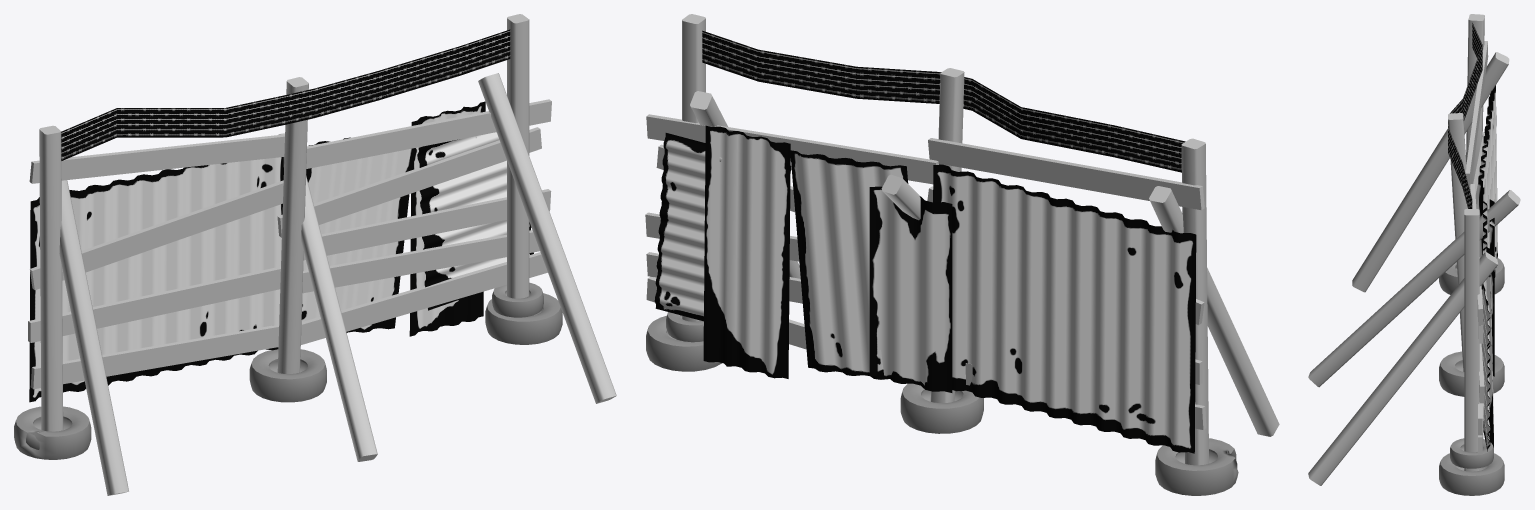
The model's file is JunkWall2.FBX.
3 renders of one model, left to right at view 1: azimuth 30°, elevation 25°; view 2: azimuth 150°, elevation 25°; view 3: azimuth 270°, elevation 25°, orthographic. The views are drawn at different scales.
Parts seen in each view (by area): view 1: JunkWall2; view 2: JunkWall2; view 3: JunkWall2.
Part boxes in pixels (box(x1,y1,x2,y2)): JunkWall2: box(14, 14, 616, 495); JunkWall2: box(645, 14, 1279, 495); JunkWall2: box(1308, 14, 1520, 495).
Size of what is drawn, in the model's own units: 180 by 71.73 by 103.
